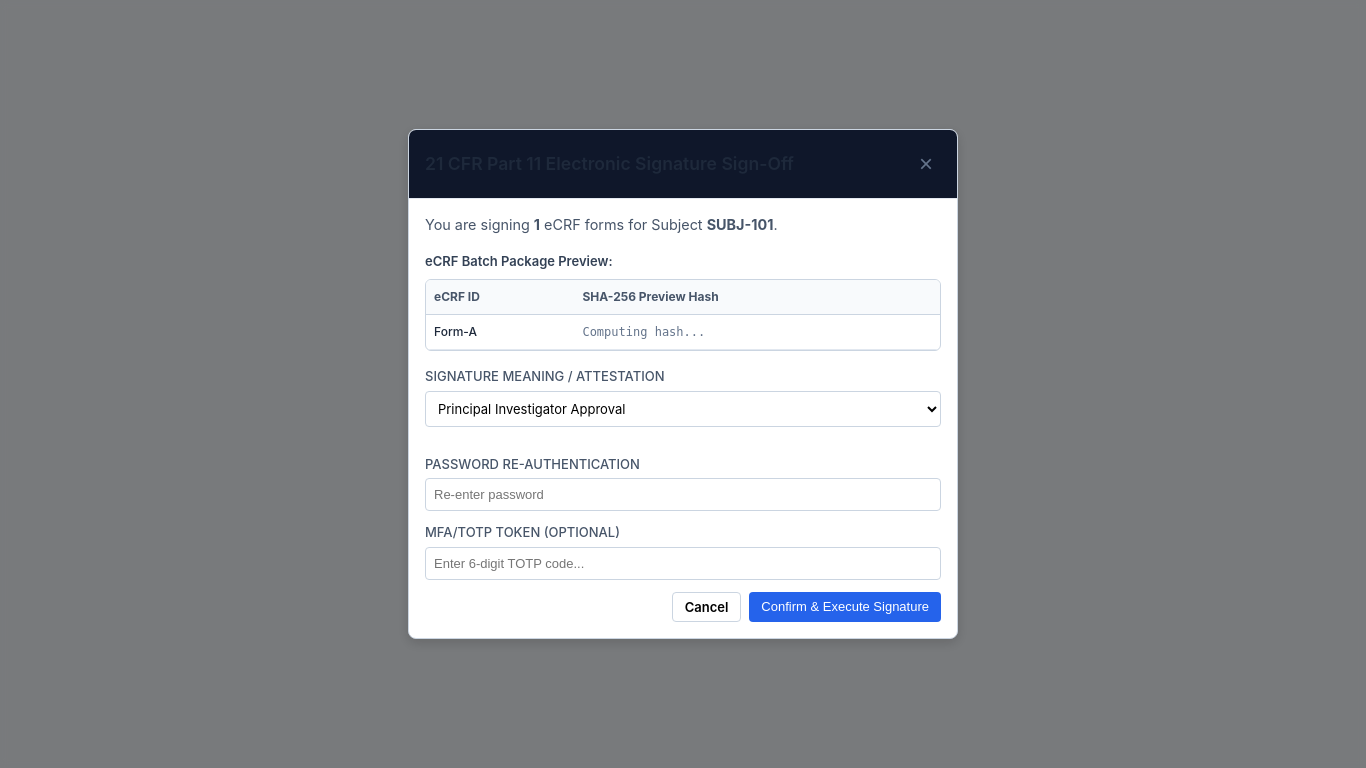
Scenario: BatchSignatureModal.vue › disables execute button until password and signature meaning are provided
expect the submit button is disabled: met, box [749, 592, 941, 622]
Note: Set signature meaning and password
Select "Principal Investigator Approval" in the dropdown with class "signature-meaning-picker" at (683, 409), box [425, 391, 941, 427]
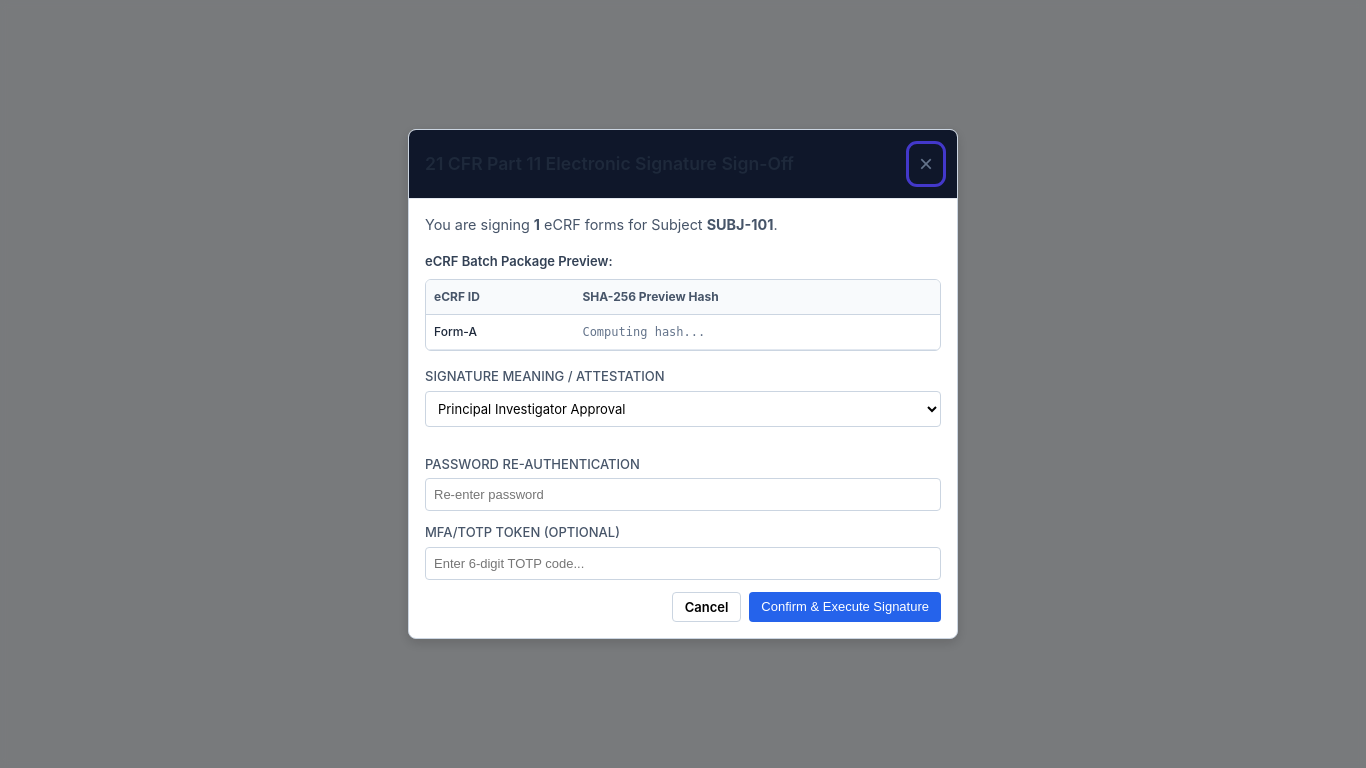
Type "valid_password" into the password field labelled "Password Re-Authentication".
click(683, 495); type("valid_password")  # box [425, 478, 941, 511]
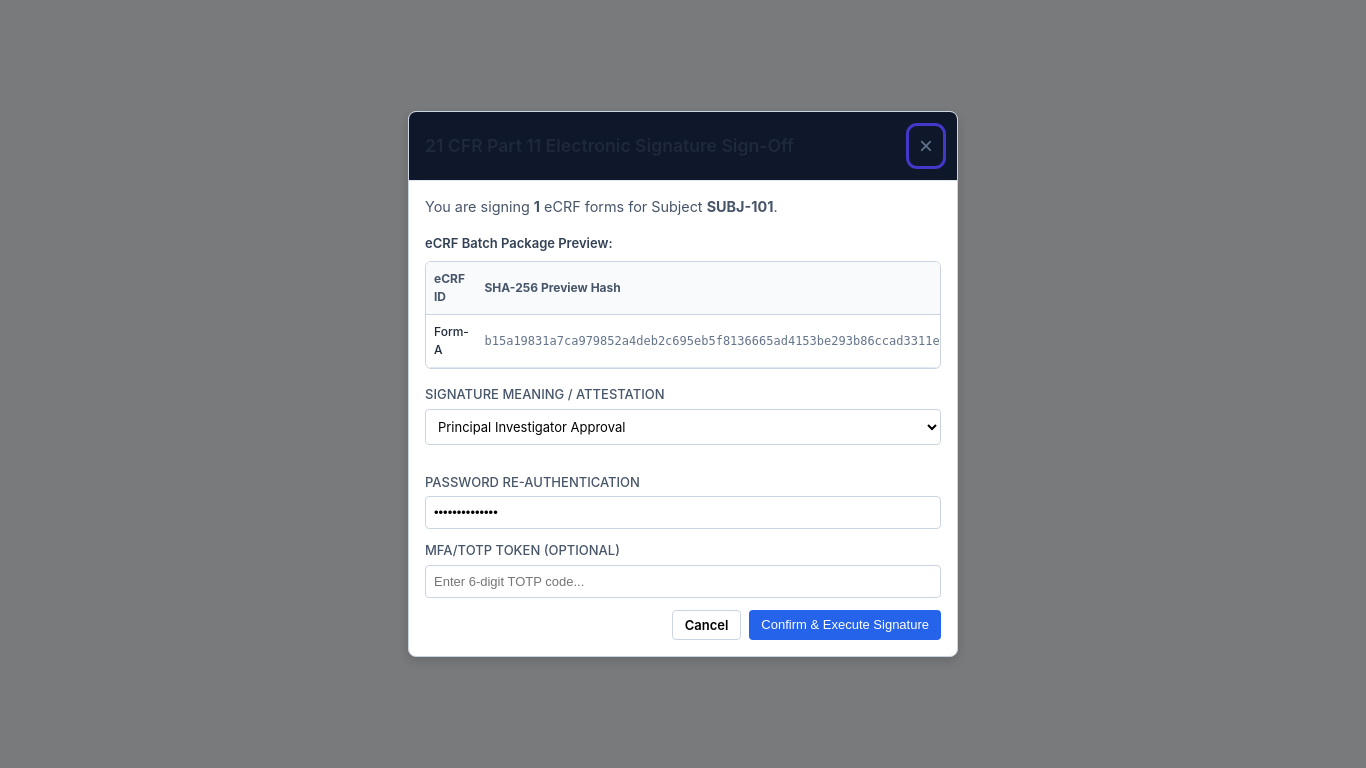
expect the submit button is enabled: met, box [749, 610, 941, 640]
